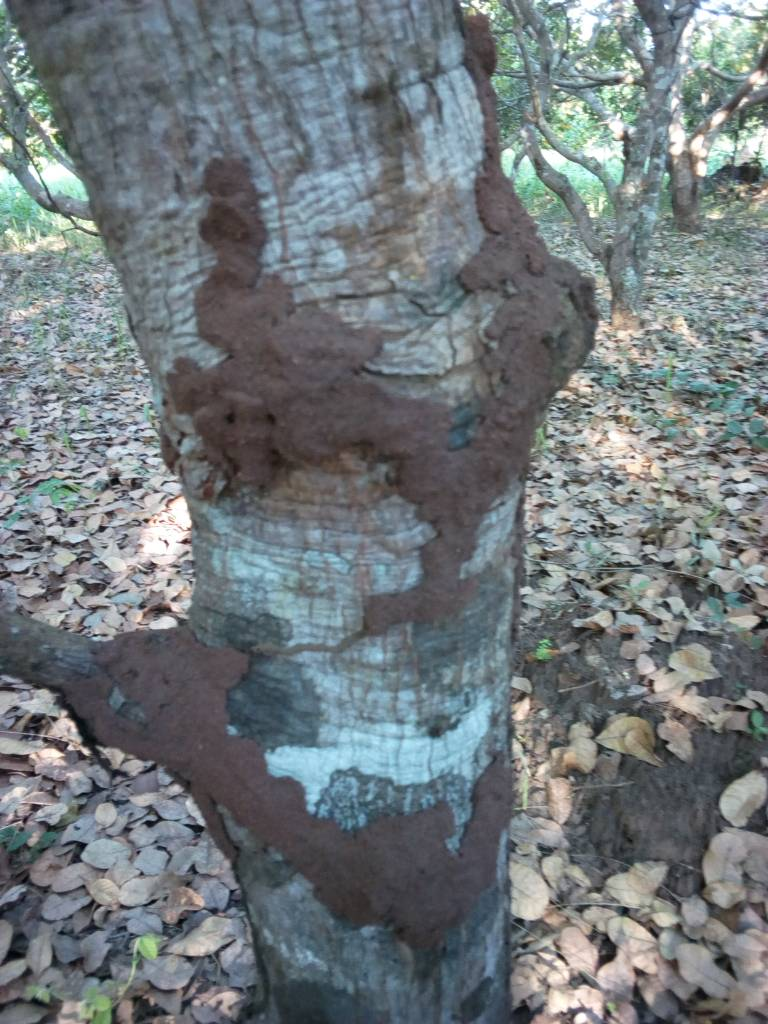Termites: (180, 175, 557, 622), (88, 672, 511, 942)
